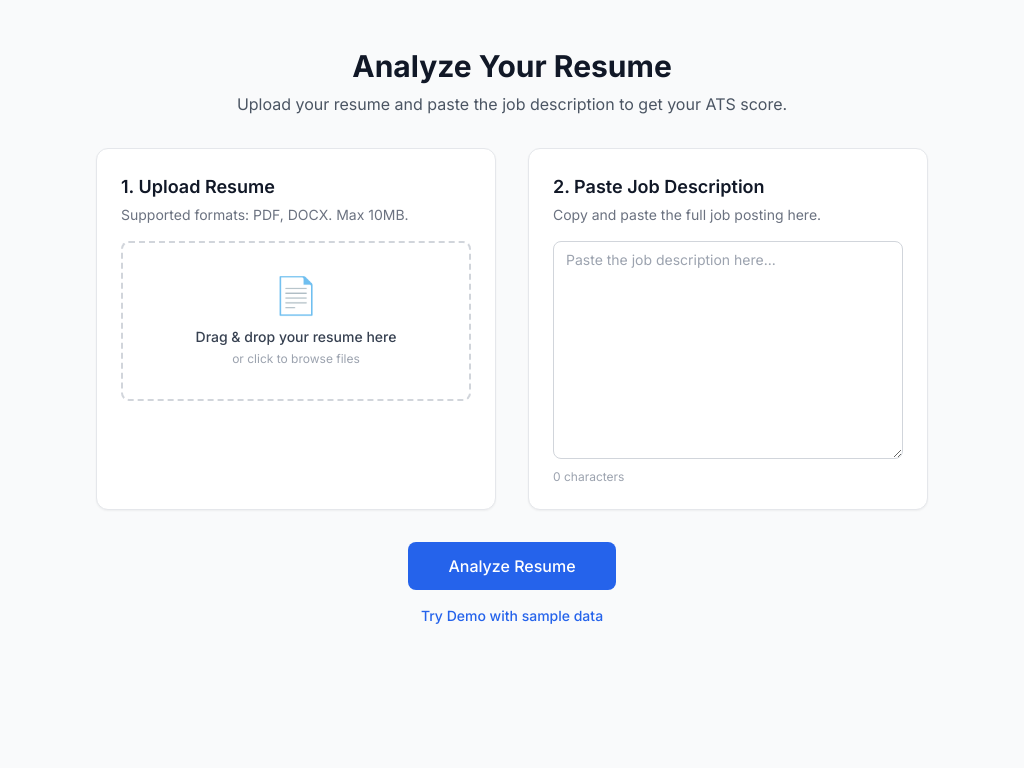
Scenario: UploadPage demo interaction › shows a backend-unavailable error when the demo request fails with no response
Click the button "Try Demo with sample data". click: (512, 616)
box: [421,606,603,626]
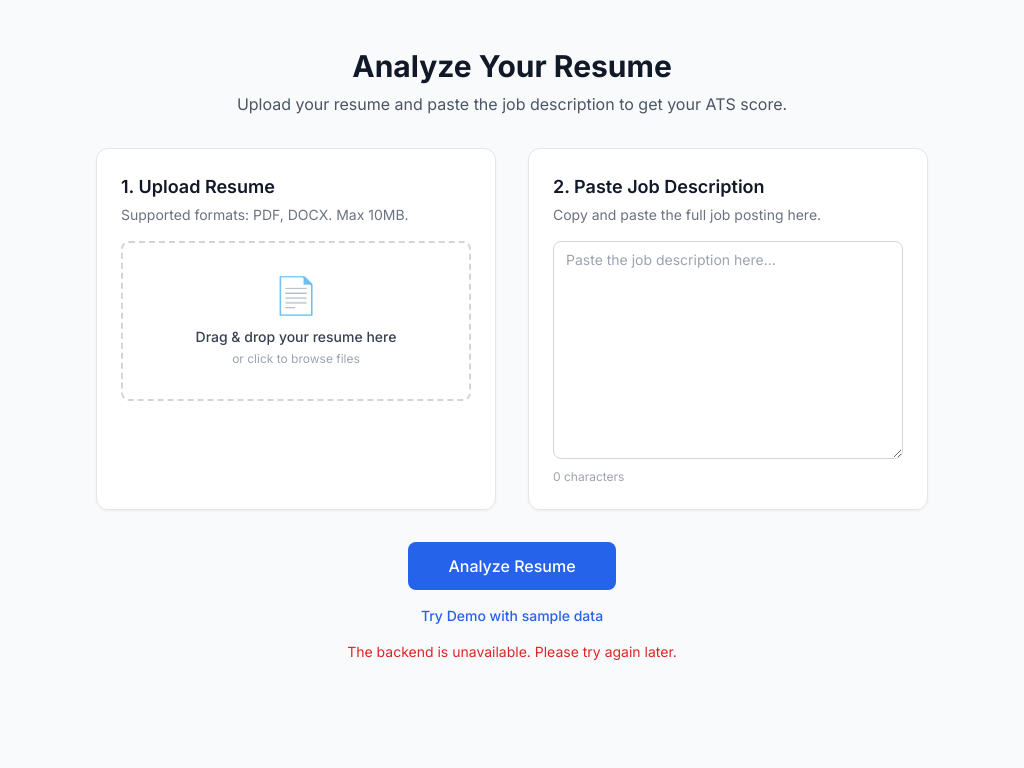
Check: the message shows "backend is unavailable", box [347,643,677,660]
